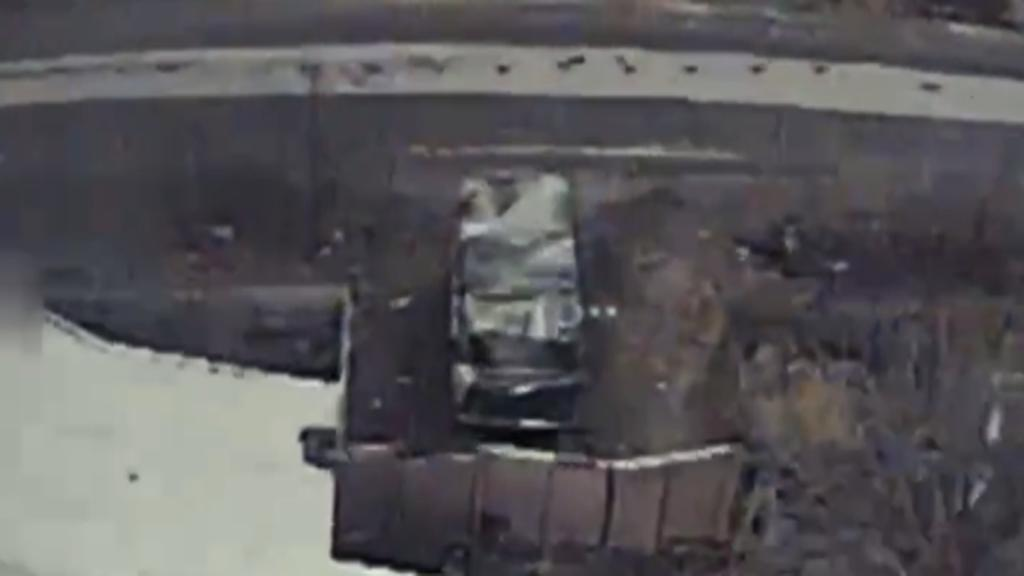CAR: (444, 164, 596, 437)
